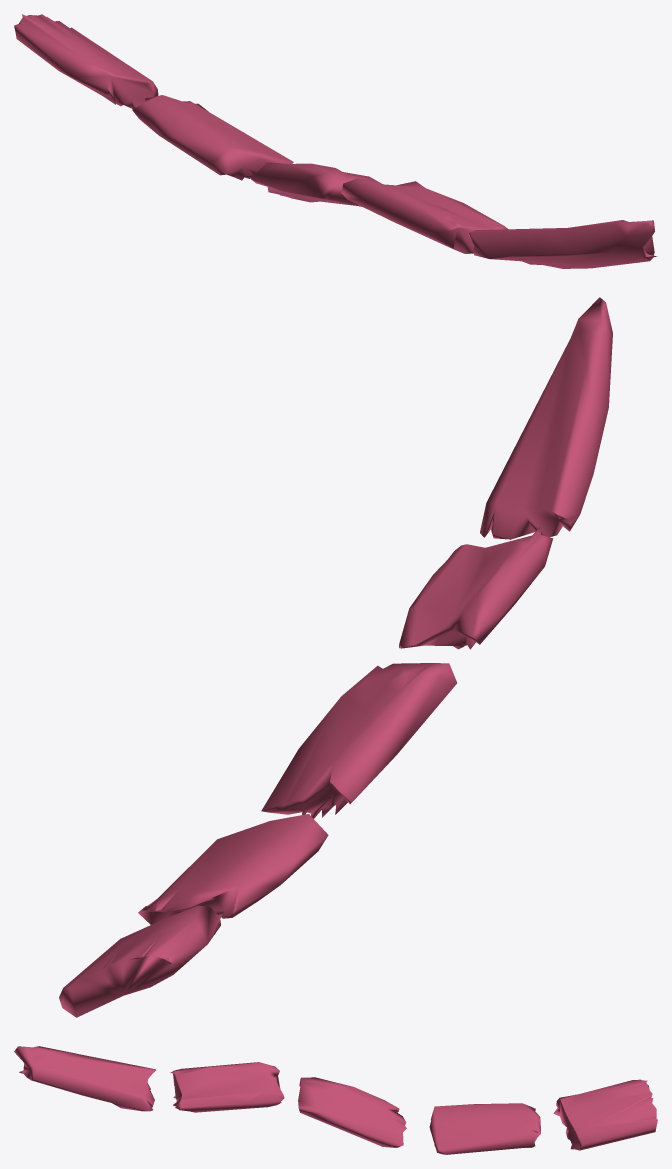
The picture shows the model from 3 angles, top to bottom: view 1: azimuth 30°, elevation 25°; view 2: azimuth 150°, elevation 25°; view 3: azimuth 270°, elevation 25°; orthographic projection. The views are drawn at different scales.
Visible parts, largest first — view 1: 右侧腰外侧横突间肌背侧部; view 2: 右侧腰外侧横突间肌背侧部; view 3: 右侧腰外侧横突间肌背侧部.
Part boxes in pixels (bbox=[...]): 右侧腰外侧横突间肌背侧部: bbox=[14, 14, 657, 268]; 右侧腰外侧横突间肌背侧部: bbox=[59, 297, 612, 1017]; 右侧腰外侧横突间肌背侧部: bbox=[14, 1046, 657, 1154].
Size of the model in its own units: 0.0421 by 0.047 by 0.2213.
